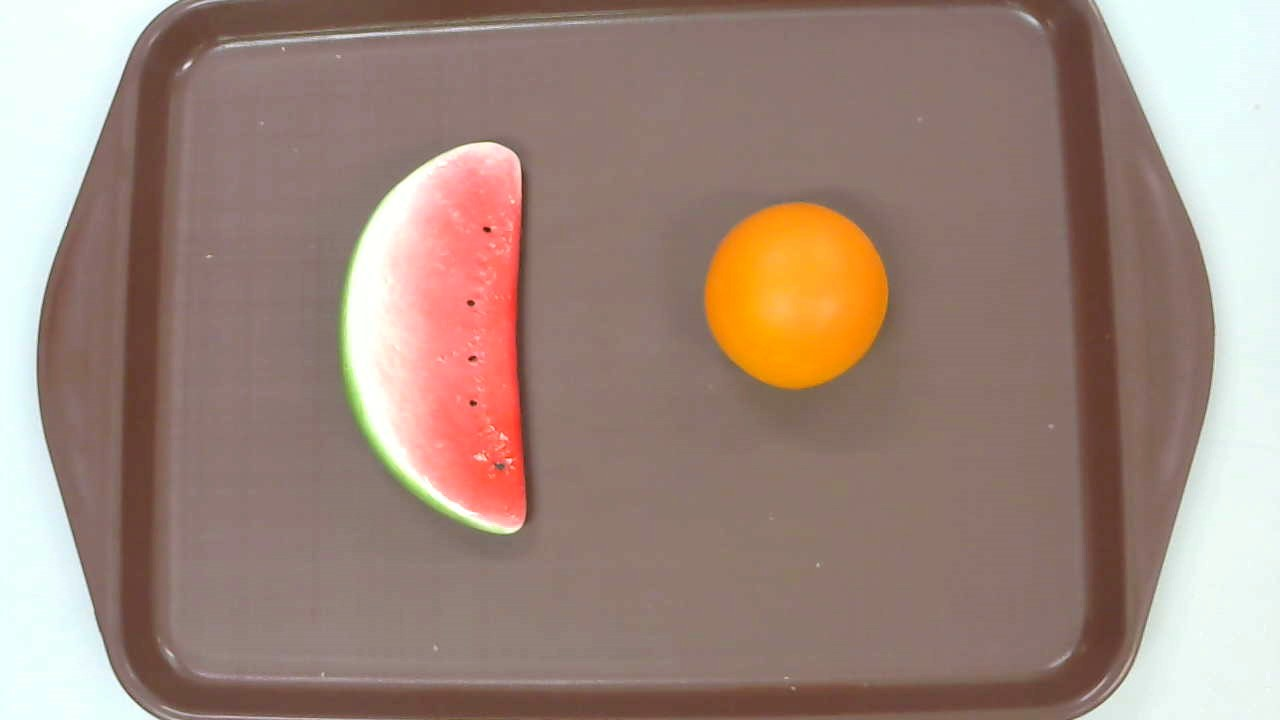bun: (703, 203, 890, 391)
water melon: (337, 141, 528, 534)
